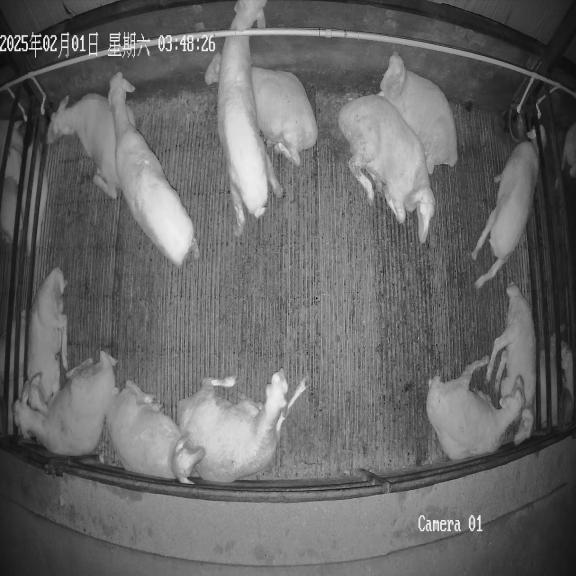lying: (178, 369, 306, 482), (339, 95, 434, 243), (204, 54, 318, 166), (14, 351, 116, 456), (426, 356, 525, 460), (106, 381, 205, 484), (378, 52, 457, 175), (486, 284, 536, 444), (47, 93, 121, 198), (22, 268, 68, 414)
stand: (108, 72, 199, 266), (217, 0, 282, 236), (472, 125, 546, 288)
